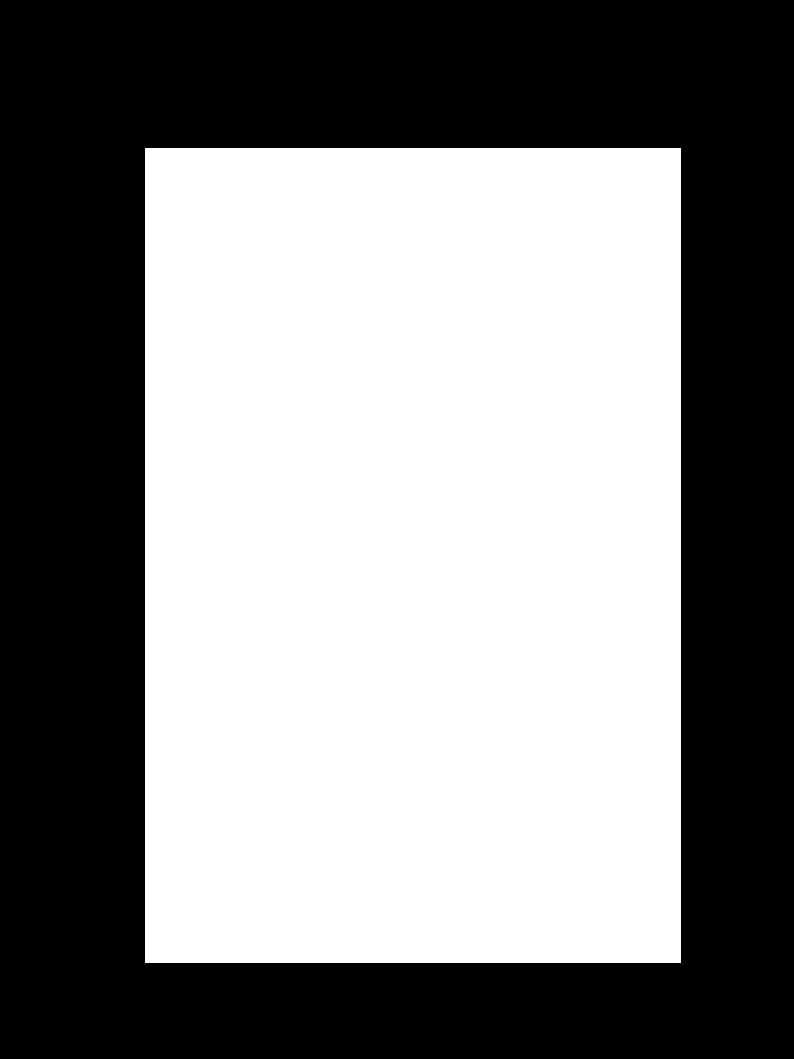table: (145, 148, 680, 962)
